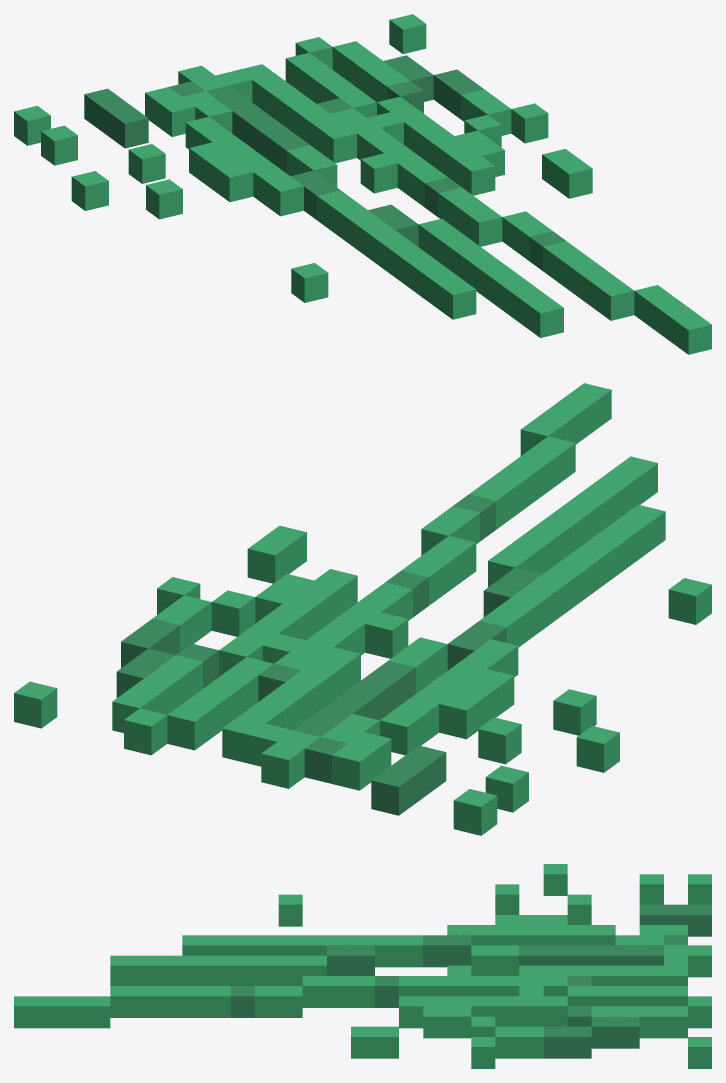
The model's file is grass1.fbx.
The picture shows the model from 3 angles, top to bottom: view 1: azimuth 30°, elevation 25°; view 2: azimuth 150°, elevation 25°; view 3: azimuth 270°, elevation 25°; orthographic projection. The views are drawn at different scales.
Parts seen in each view (by area): view 1: grass1; view 2: grass1; view 3: grass1.
Boxes of the visible parts, left/top/right/bottom form: grass1: left=14, top=14, right=711, bottom=354; grass1: left=14, top=383, right=711, bottom=835; grass1: left=14, top=864, right=711, bottom=1068.
Bounding box in the file's own units: 18 × 1 × 29.
1 material, 1 textured.
